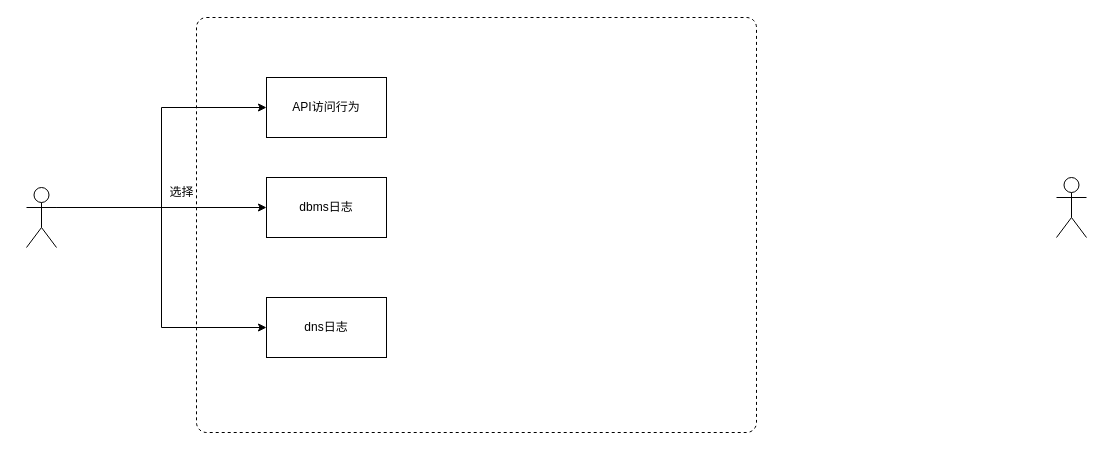
Some shapes in this 1104 by 450 pixel diagram are drawn without their labels. The box of each missing label's shape, as (x1, y1, x2, y2) in pixels:
Actor: (1056, 176, 1086, 238)
运营人员: (26, 186, 56, 248)
